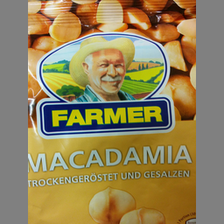nuts: (28, 1, 197, 224)
